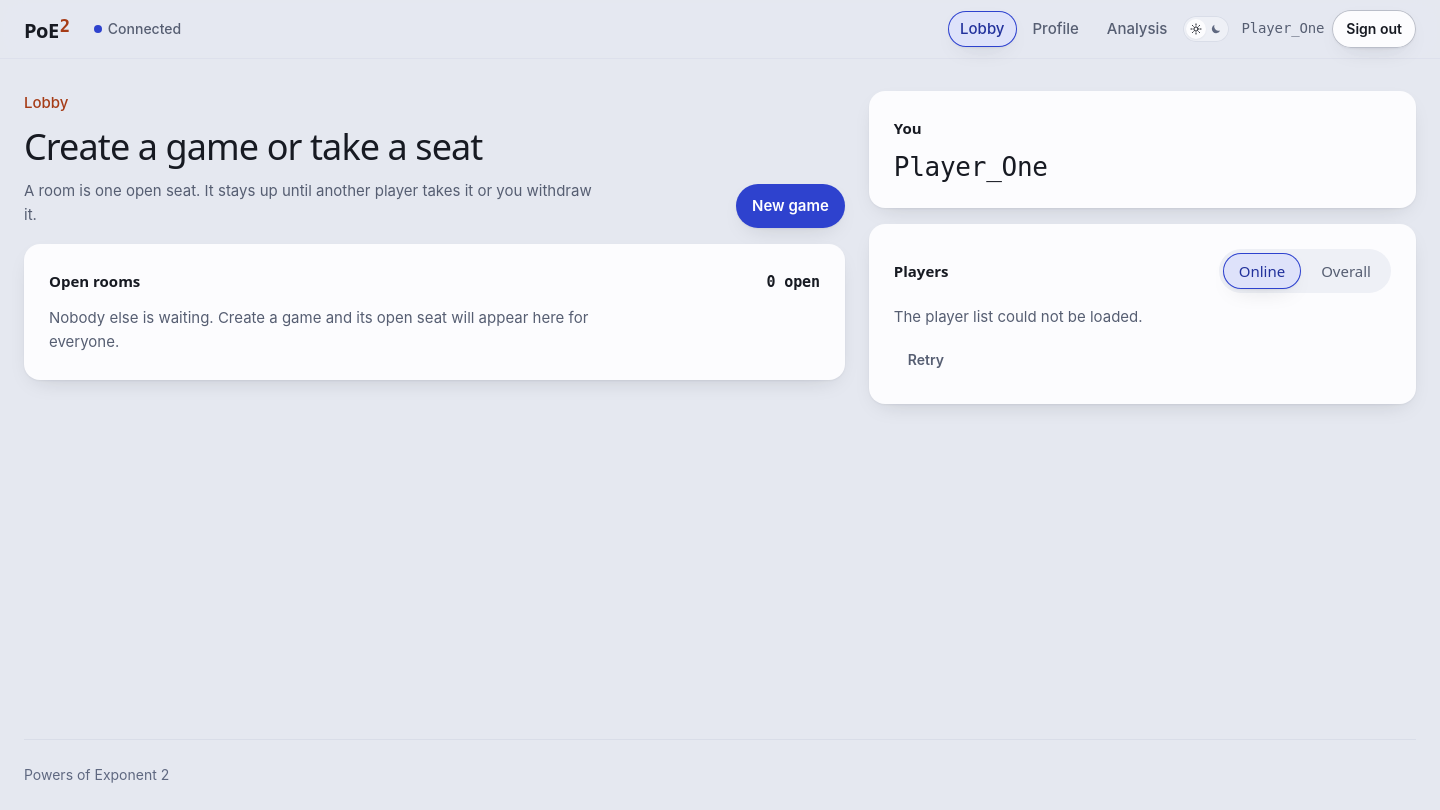
Scenario: lobby player directory › offers an explicit retry after a failed request
expect the message shows "The player list could not be loaded.": met, box [894,307,1143,326]
Click the button "Retry". click: {"x": 926, "y": 360}
box: [894,341,958,379]
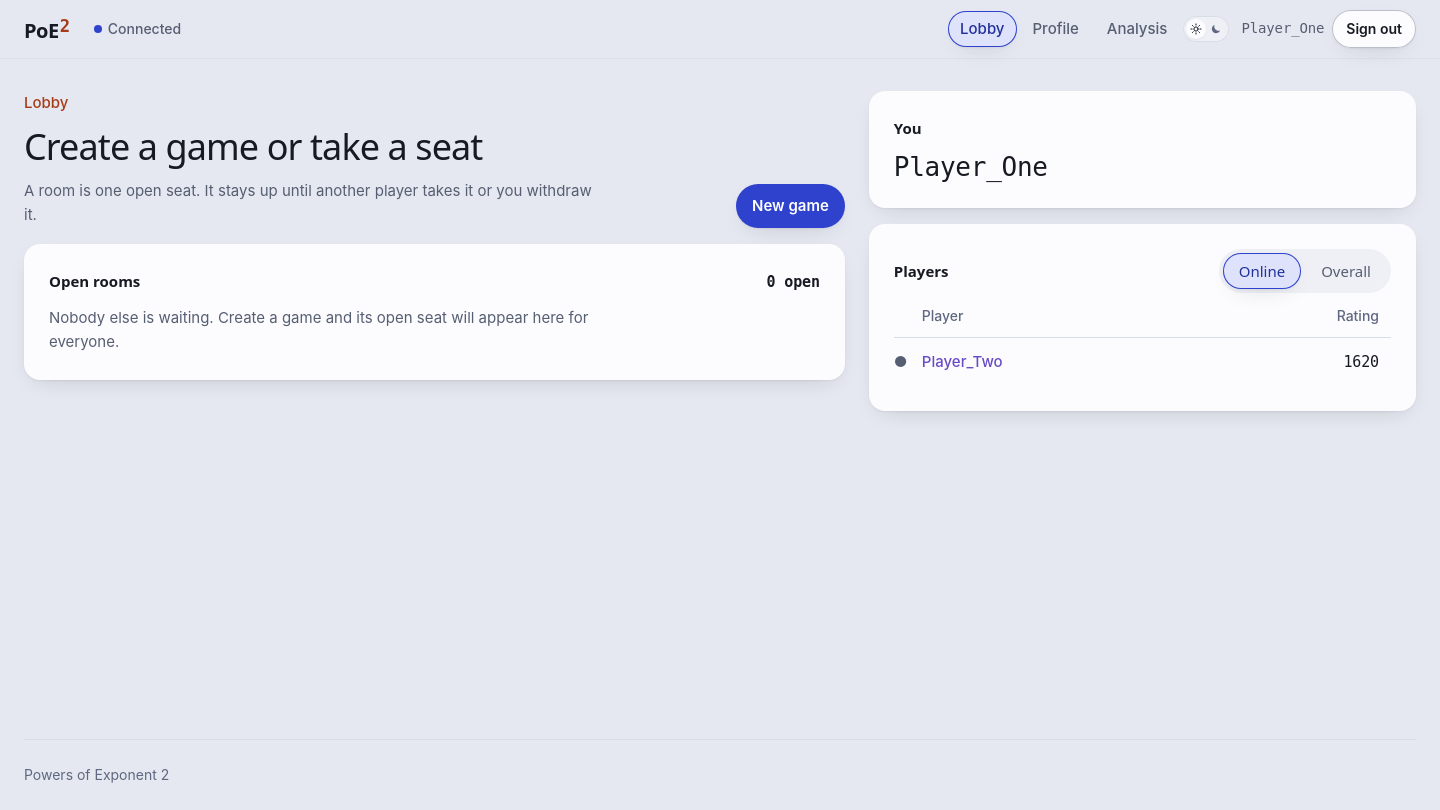
expect the link "Player_Two" is shown: met, box [922,352,1003,371]
